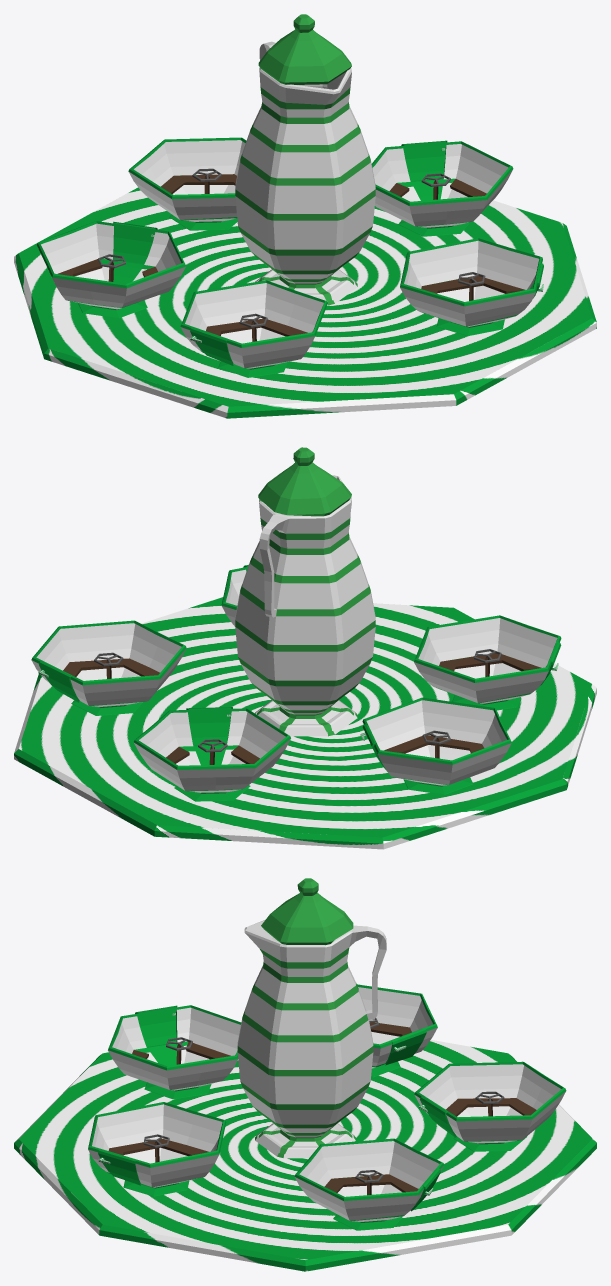
Rendered from Cups.V3.fbx.
The picture shows the model from 3 angles, top to bottom: view 1: azimuth 30°, elevation 25°; view 2: azimuth 150°, elevation 25°; view 3: azimuth 270°, elevation 25°; orthographic projection. The views are drawn at different scales.
Parts seen in each view (by area): view 1: Circle, Circle.003, Circle.005, Circle.007, Circle.006, Circle.004, Circle.008; view 2: Circle, Circle.003, Circle.008, Circle.007, Circle.004, Circle.006, Circle.005; view 3: Circle, Circle.003, Circle.008, Circle.004, Circle.005, Circle.006, Circle.007.
Boxes of the visible parts, x1=… form: Circle: x1=14, y1=187, x2=596, y2=418; Circle.003: x1=235, y1=14, x2=375, y2=305; Circle.005: x1=400, y1=238, x2=543, y2=335; Circle.007: x1=37, y1=221, x2=185, y2=318; Circle.006: x1=180, y1=280, x2=327, y2=377; Circle.004: x1=371, y1=140, x2=513, y2=236; Circle.008: x1=128, y1=137, x2=246, y2=230; Circle: x1=14, y1=597, x2=596, y2=849; Circle.003: x1=235, y1=447, x2=375, y2=736; Circle.008: x1=133, y1=707, x2=290, y2=801; Circle.007: x1=360, y1=697, x2=511, y2=794; Circle.004: x1=31, y1=620, x2=186, y2=715; Circle.006: x1=414, y1=615, x2=561, y2=710; Circle.005: x1=221, y1=564, x2=248, y2=626; Circle: x1=14, y1=1040, x2=596, y2=1271; Circle.003: x1=237, y1=878, x2=386, y2=1158; Circle.008: x1=414, y1=1061, x2=566, y2=1151; Circle.004: x1=294, y1=1138, x2=443, y2=1230; Circle.005: x1=88, y1=1102, x2=226, y2=1196; Circle.006: x1=108, y1=1005, x2=241, y2=1099; Circle.007: x1=357, y1=984, x2=437, y2=1077.
Size of the model in its own units: 1400 by 1400 by 711.
Materials: 5 (1 with a texture image).
